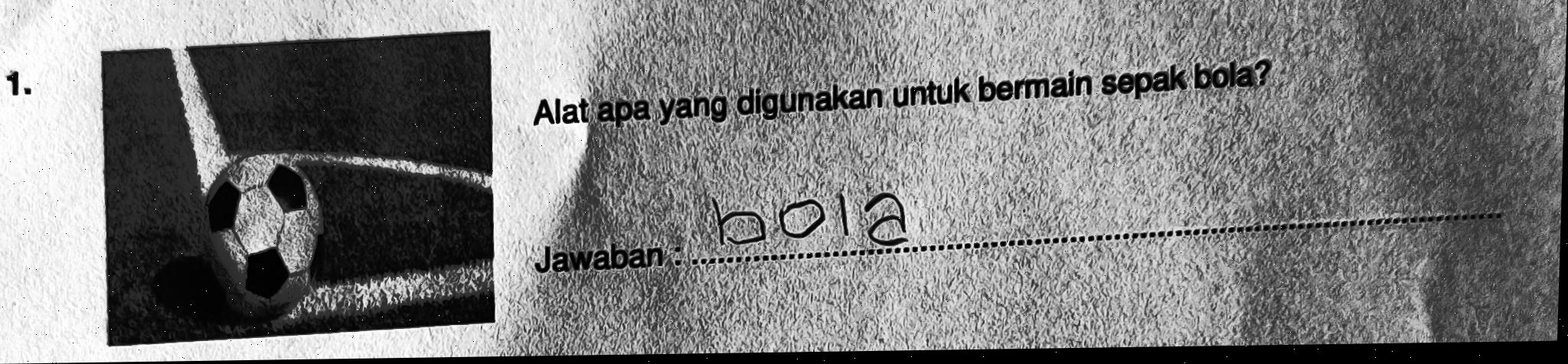jawaban: (704, 174, 933, 263)
